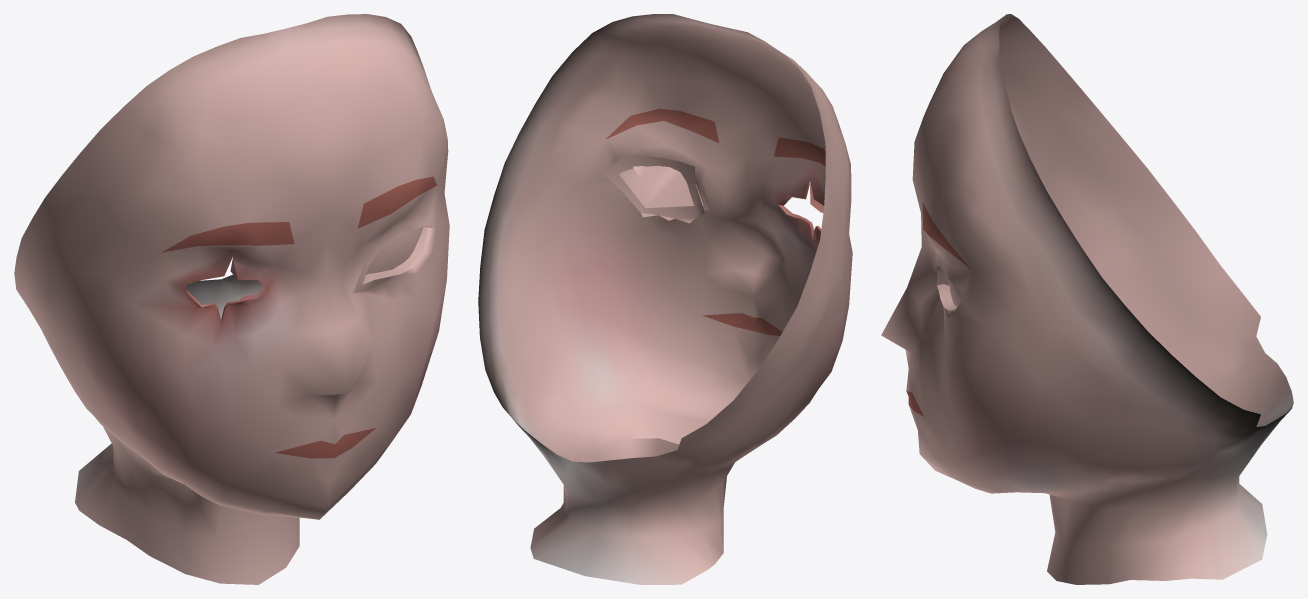
3 renders of one model, left to right at view 1: azimuth 30°, elevation 25°; view 2: azimuth 150°, elevation 25°; view 3: azimuth 270°, elevation 25°, orthographic. The views are drawn at different scales.
Visible parts, largest first — view 1: face; view 2: face; view 3: face.
Boxes of the visible parts, left/top/right/bottom form: face: left=14, top=14, right=449, bottom=584; face: left=478, top=14, right=852, bottom=584; face: left=881, top=14, right=1293, bottom=584.
Bounding box in the file's own units: 0.1637 × 0.2454 × 0.1739.
